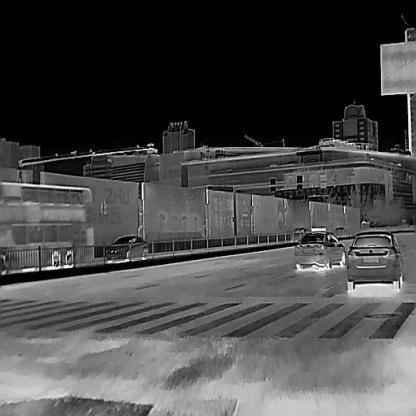car: (0, 180, 95, 275), (345, 229, 404, 292), (293, 225, 347, 269), (105, 234, 149, 263), (289, 225, 307, 242), (333, 224, 346, 236)
